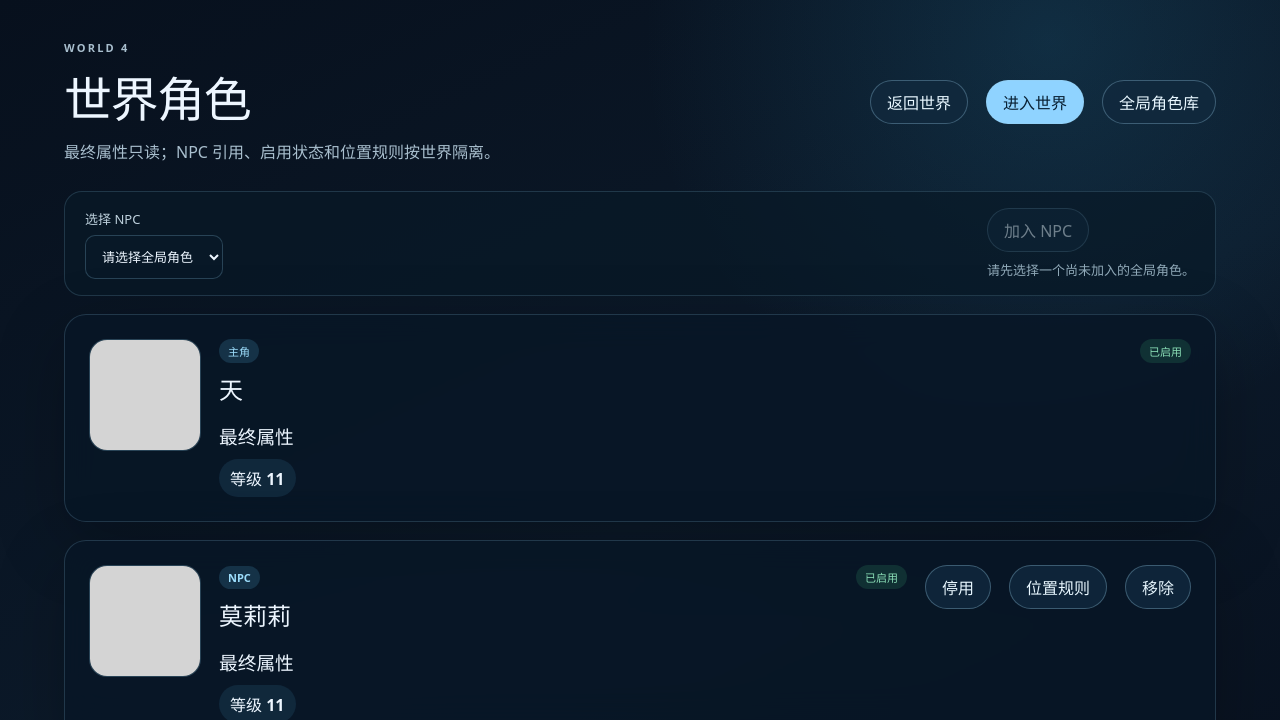
Test: WorldRolesPage › filters roles already in the world before adding an NPC
This screenshot has width=1280, height=720.
Step 1. Select "安可儿" in the dropdown labelled "选择 NPC" → (154, 256), box [85,234,223,278]
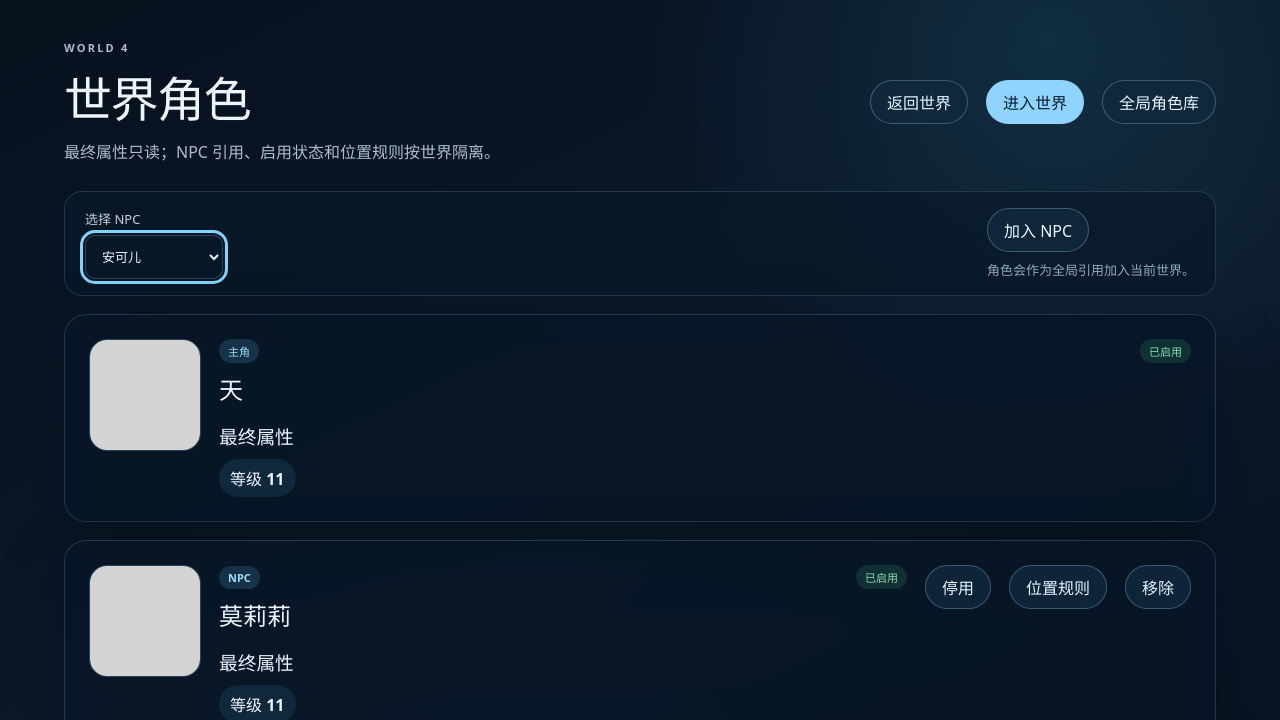
Step 2. Click the button "加入 NPC" → click(1038, 230), box [987,208,1089,252]
(page scrolled)
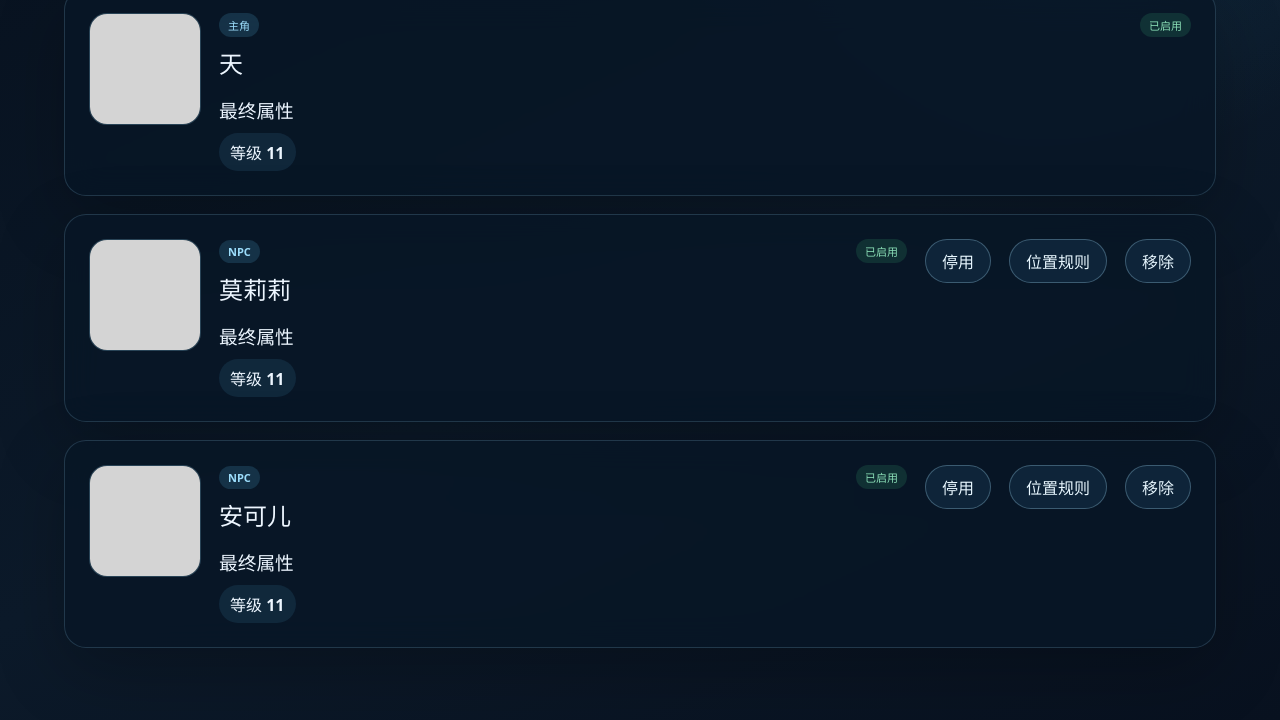
Check: the heading "安可儿" is shown, box [219,497,291,532]
